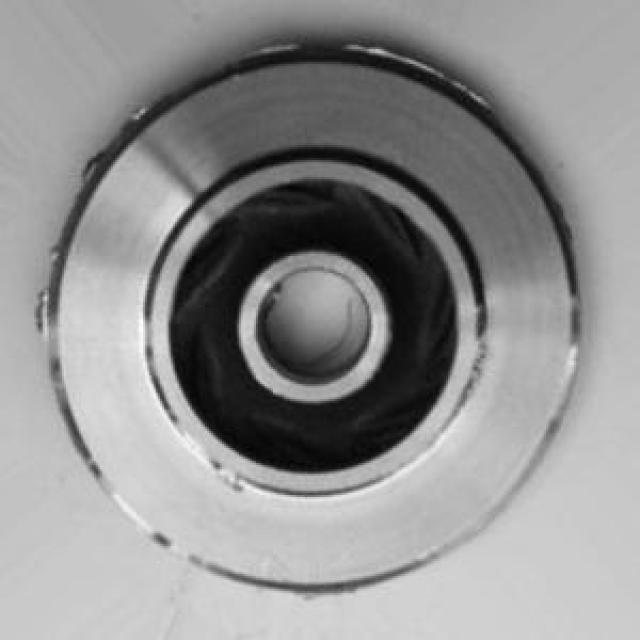Defect: (373, 36, 433, 77)
